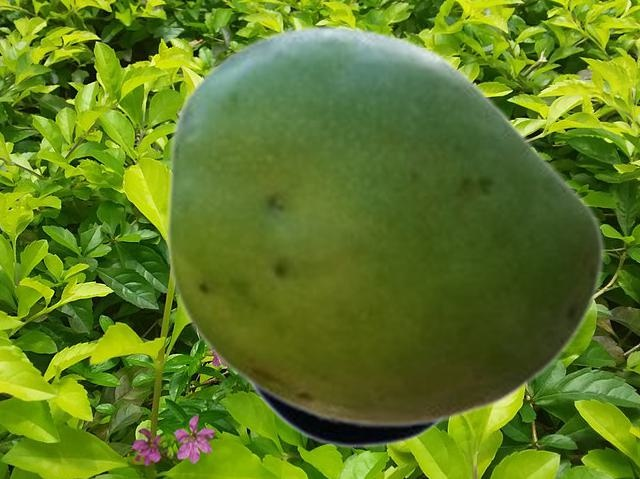green_mango: (164, 23, 604, 428), (246, 384, 442, 447)
